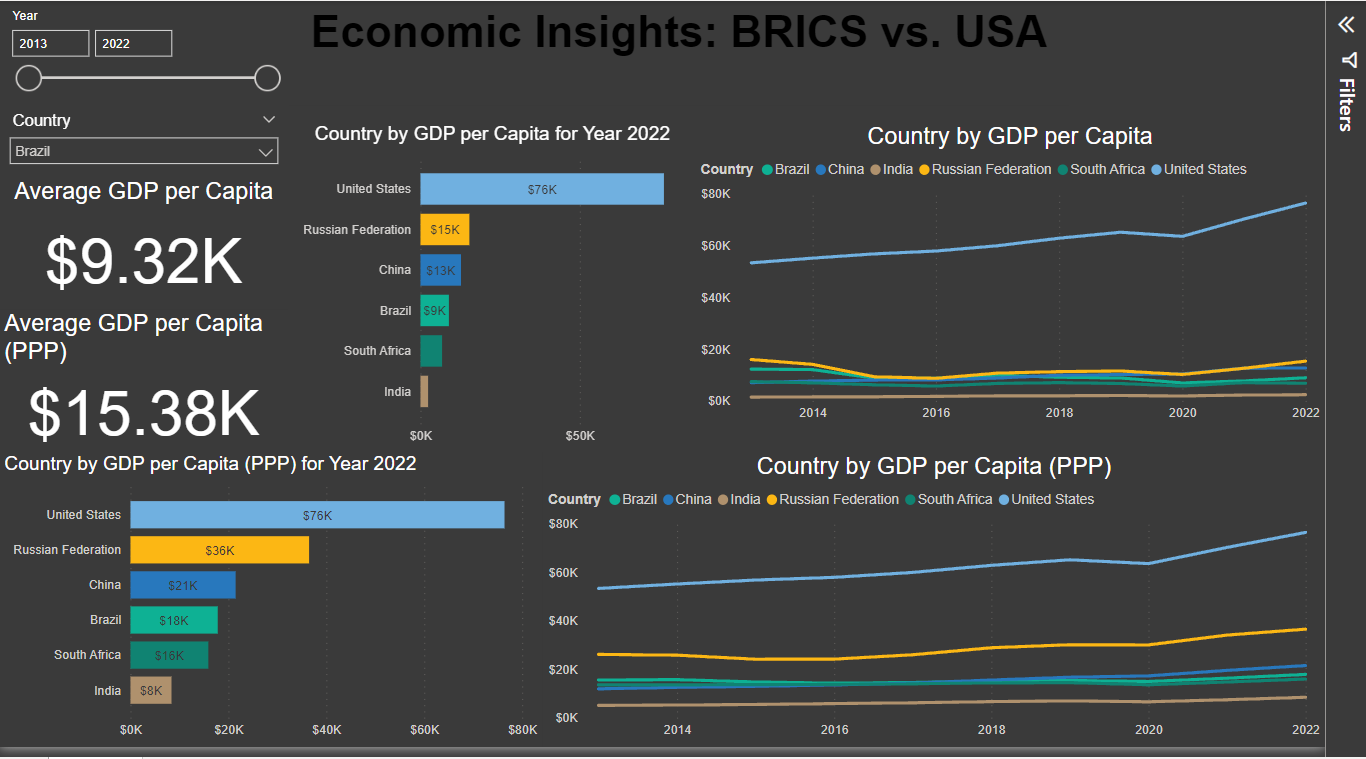

This screenshot's page, from the dashboard's own definition file:
{"tool":"powerbi","page":{"name":"Page 1","canvas":[1280,720],"ordinal":0},"visuals":[{"type":"card","title":"Average GDP per Capita","fields":{"Values":["Avg(Data.GDP per capita (current US$))"]},"box":[0,170.6,279.6,127.6],"z":0},{"type":"card","title":"Average GDP per Capita (PPP)","fields":{"Values":["Avg(Data.GDP per capita, PPP (current international $))"]},"box":[0,298.2,279.6,137.6],"z":1000},{"type":"slicer","fields":{"Values":["Data.Year"]},"box":[0,2.8,279.9,98],"z":2000},{"type":"slicer","title":"Country","fields":{"Values":["Data.Country Name"]},"box":[0,100.9,279.9,69.6],"z":3000},{"type":"lineChart","title":"Country by GDP per Capita","fields":{"Category":["Data.Year"],"Series":["Data.Country Name"],"Y":["Sum(Data.GDP per capita (current US$))"]},"box":[672.4,117.6,607.9,296.8],"z":4000},{"type":"lineChart","title":"Country by GDP per Capita (PPP)","fields":{"Category":["Data.Year"],"Series":["Data.Country Name"],"Y":["Sum(Data.GDP per capita, PPP (current international $))"]},"box":[524.7,435.8,755.6,283.9],"z":5000},{"type":"barChart","title":"Country by GDP per Capita for Year 2022","fields":{"Category":["Data.Country Name"],"Y":["Sum(Data.GDP per capita (current US$))"],"Series":["Data.Country Name"]},"box":[279.6,117.6,392.8,318.3],"z":6000},{"type":"barChart","title":"Country by GDP per Capita (PPP) for Year 2022","fields":{"Category":["Data.Country Name"],"Y":["Sum(Data.GDP per capita, PPP (current international $))"],"Series":["Data.Country Name"]},"box":[0,435.8,524.7,283.9],"z":7000},{"type":"textbox","box":[279.9,0,753.1,100.9],"z":8000}]}

Visuals, with their boxes on the page's 1280x720 design canvas (x1, y1, x2, y2). These are canvas units, not pixel positions in the 1366x759 screenshot, which may show the page scaled, cropped or inside an application window:
"Average GDP per Capita" card: {"x1": 0, "y1": 171, "x2": 280, "y2": 298}
"Average GDP per Capita (PPP)" card: {"x1": 0, "y1": 298, "x2": 280, "y2": 436}
slicer - Data.Year: {"x1": 0, "y1": 3, "x2": 280, "y2": 101}
"Country" slicer: {"x1": 0, "y1": 101, "x2": 280, "y2": 170}
"Country by GDP per Capita" lineChart: {"x1": 672, "y1": 118, "x2": 1280, "y2": 414}
"Country by GDP per Capita (PPP)" lineChart: {"x1": 525, "y1": 436, "x2": 1280, "y2": 720}
"Country by GDP per Capita for Year 2022" barChart: {"x1": 280, "y1": 118, "x2": 672, "y2": 436}
"Country by GDP per Capita (PPP) for Year 2022" barChart: {"x1": 0, "y1": 436, "x2": 525, "y2": 720}
textbox: {"x1": 280, "y1": 0, "x2": 1033, "y2": 101}
